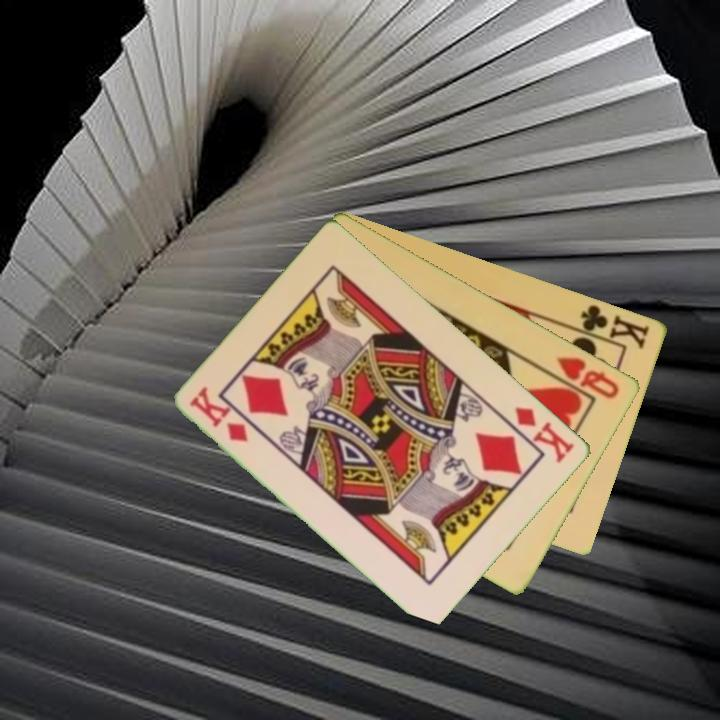Kc: (570, 301, 653, 352)
Kd: (511, 402, 578, 467), (187, 383, 252, 446)
Qh: (553, 353, 623, 402)
